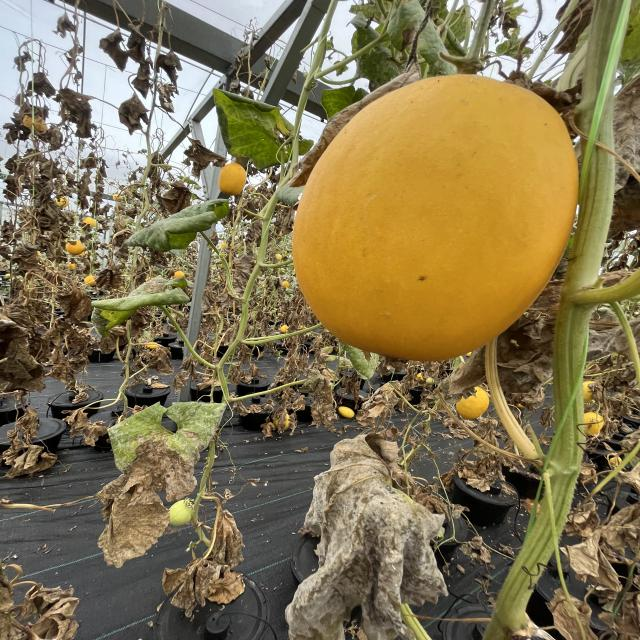alternaria leaf blight: (206, 90, 304, 174), (370, 0, 461, 76)
bacterial wilt: (285, 436, 438, 638), (96, 475, 178, 572), (504, 316, 556, 392), (159, 562, 240, 610), (4, 318, 52, 387), (362, 382, 414, 424), (206, 502, 246, 556), (18, 585, 90, 612), (60, 91, 102, 133), (460, 446, 500, 488), (310, 386, 345, 429), (131, 342, 172, 375), (186, 139, 228, 171), (112, 96, 143, 138), (268, 392, 298, 430), (165, 177, 197, 209), (42, 617, 85, 640), (125, 32, 155, 64), (0, 611, 32, 640), (101, 28, 126, 65), (69, 170, 98, 200), (7, 113, 30, 150), (0, 178, 28, 205), (131, 70, 156, 94), (5, 151, 28, 175), (164, 51, 181, 74)
